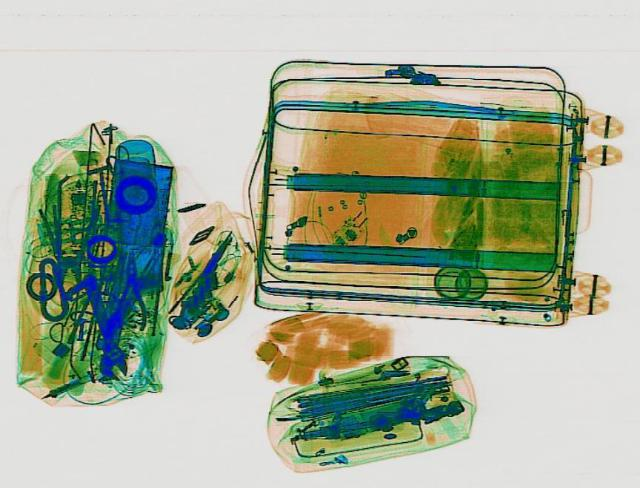Pliers: (114, 248, 146, 330)
Wrench: (70, 271, 130, 380)
